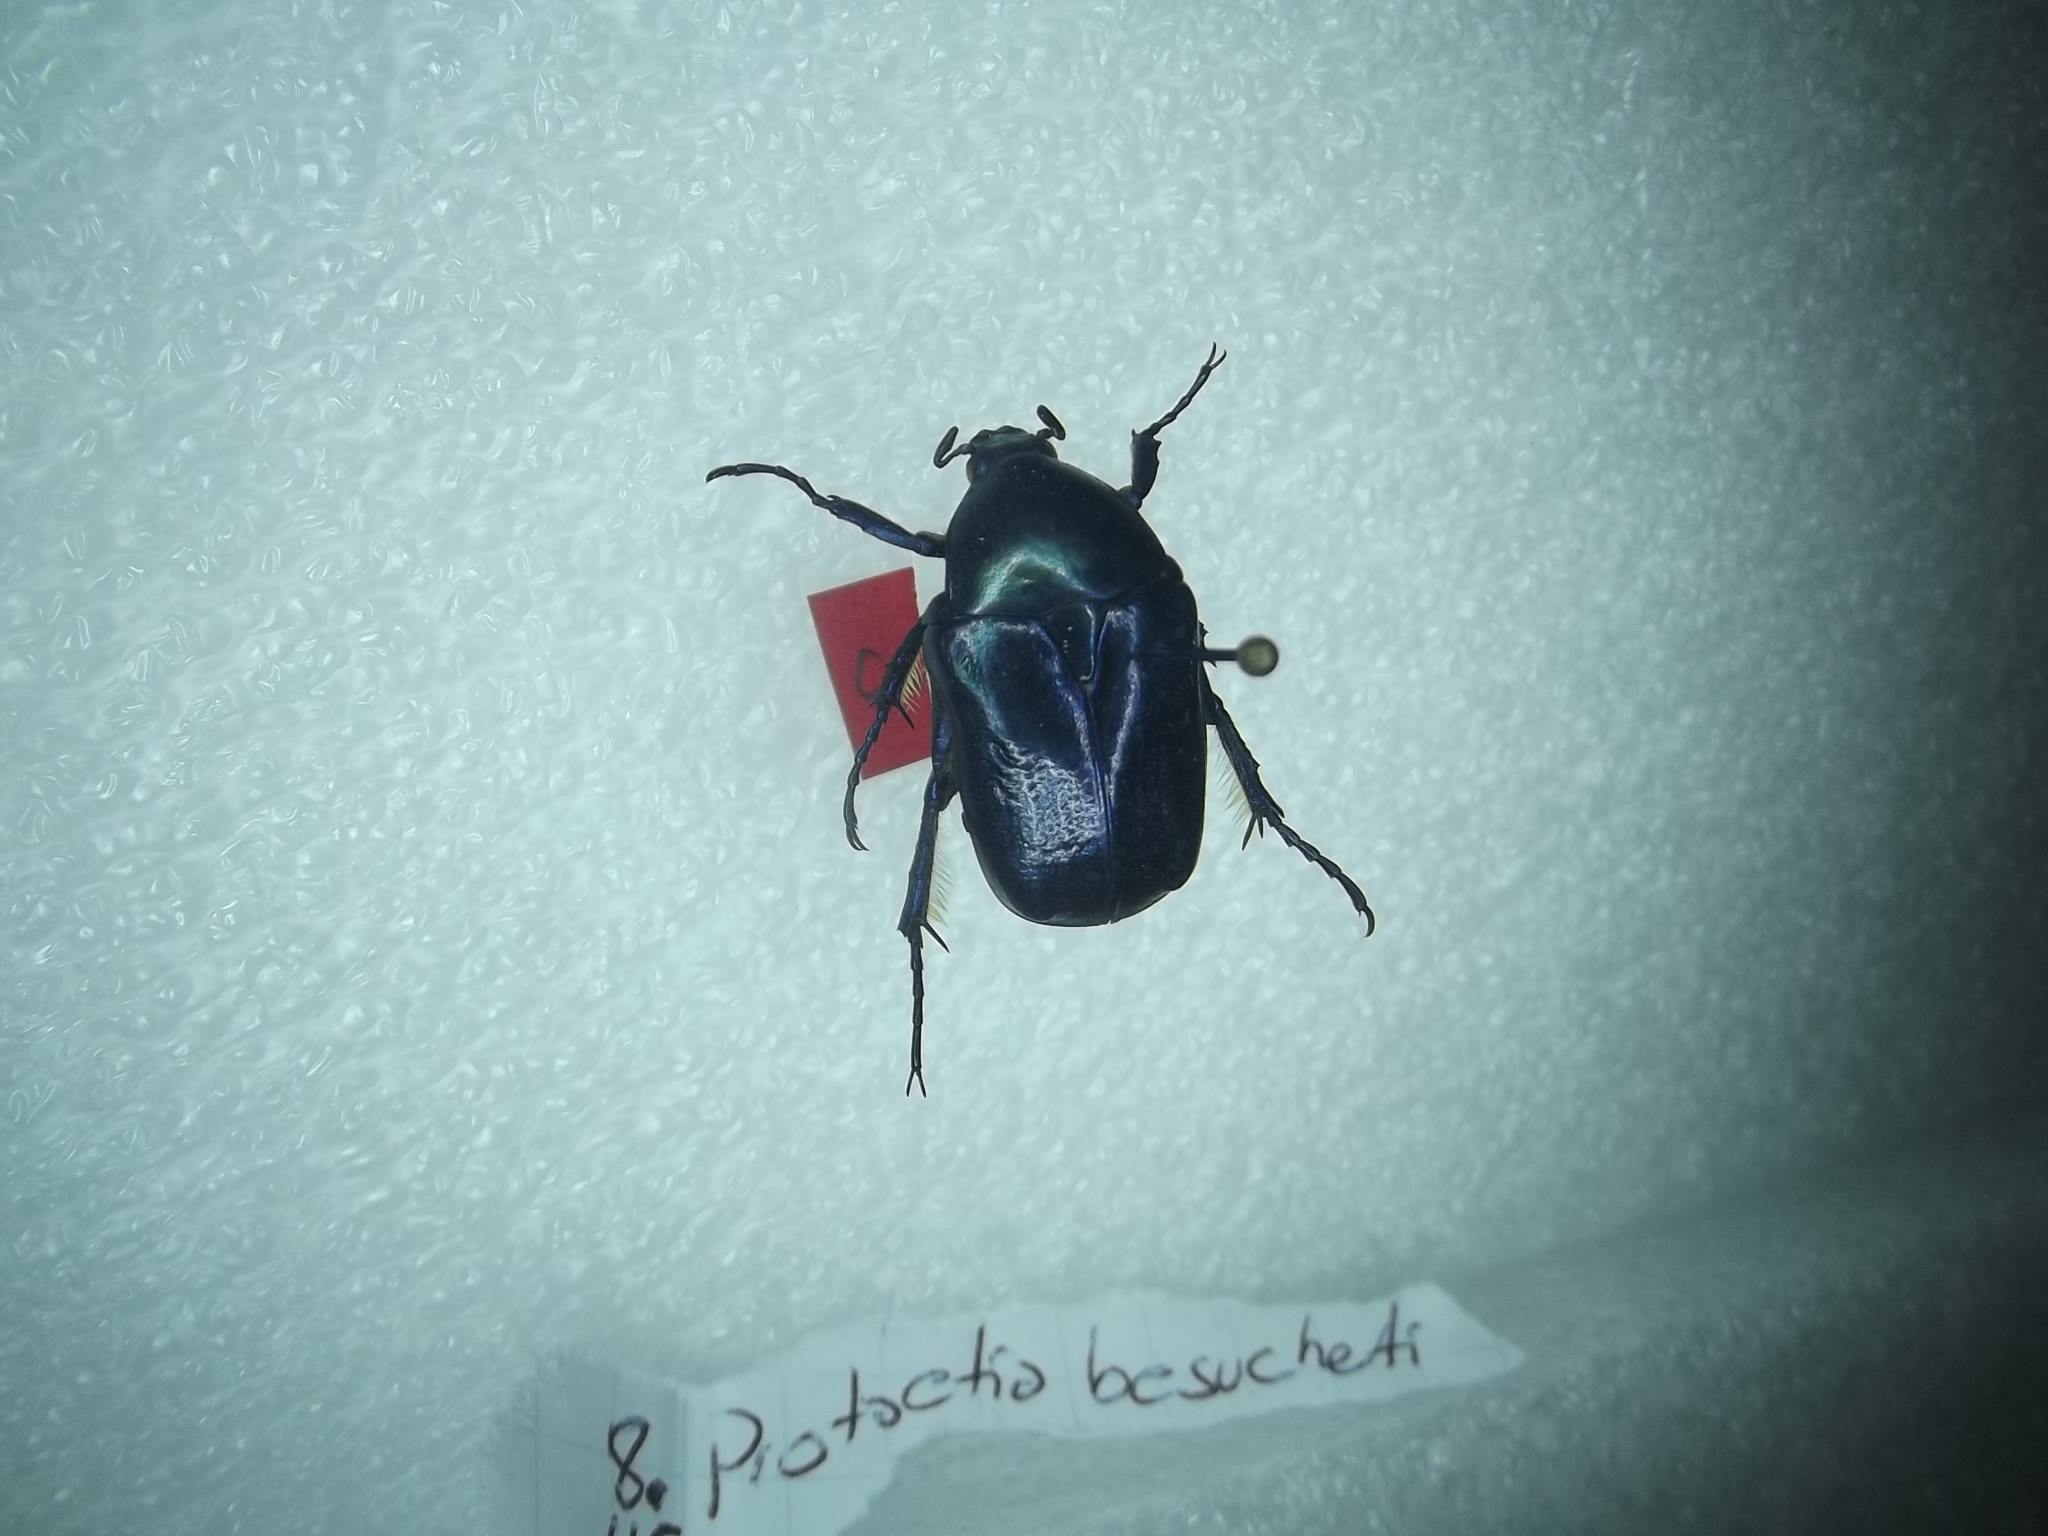Protaetia_besucheti: (703, 334, 1380, 1121)
